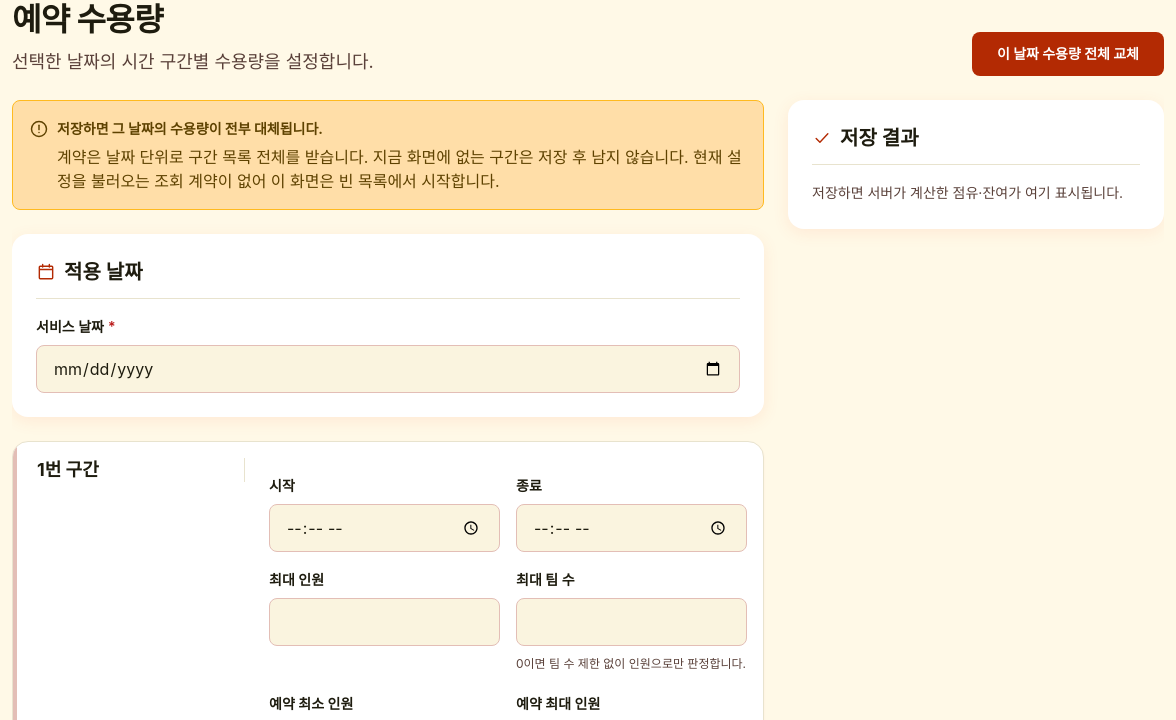
Scenario: 예약 수용량 화면 › 날짜를 고르지 않으면 저장하지 않는다
Expected: the date field labelled "서비스 날짜" is shown, [36, 345, 740, 393]
Type "11:00" into the time field labelled "시작".
click(384, 528); type("11:00")  # box [269, 504, 500, 552]
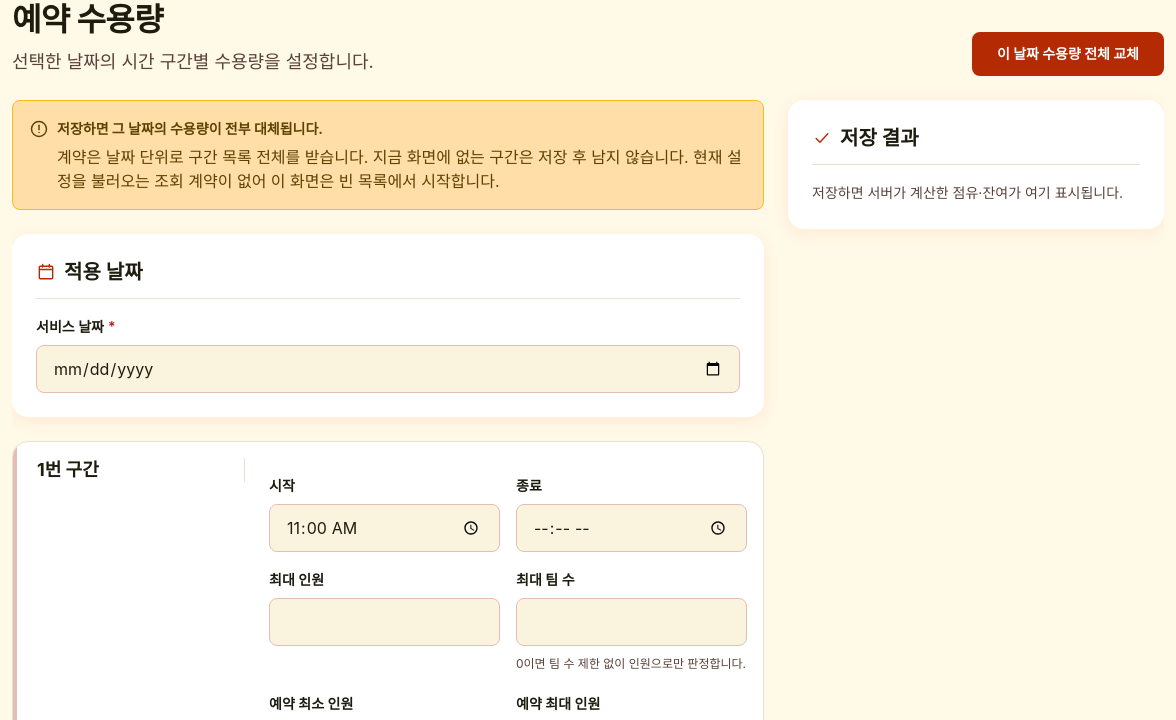
Type "14:00" into the time field labelled "종료".
click(632, 528); type("14:00")  # box [516, 504, 747, 552]
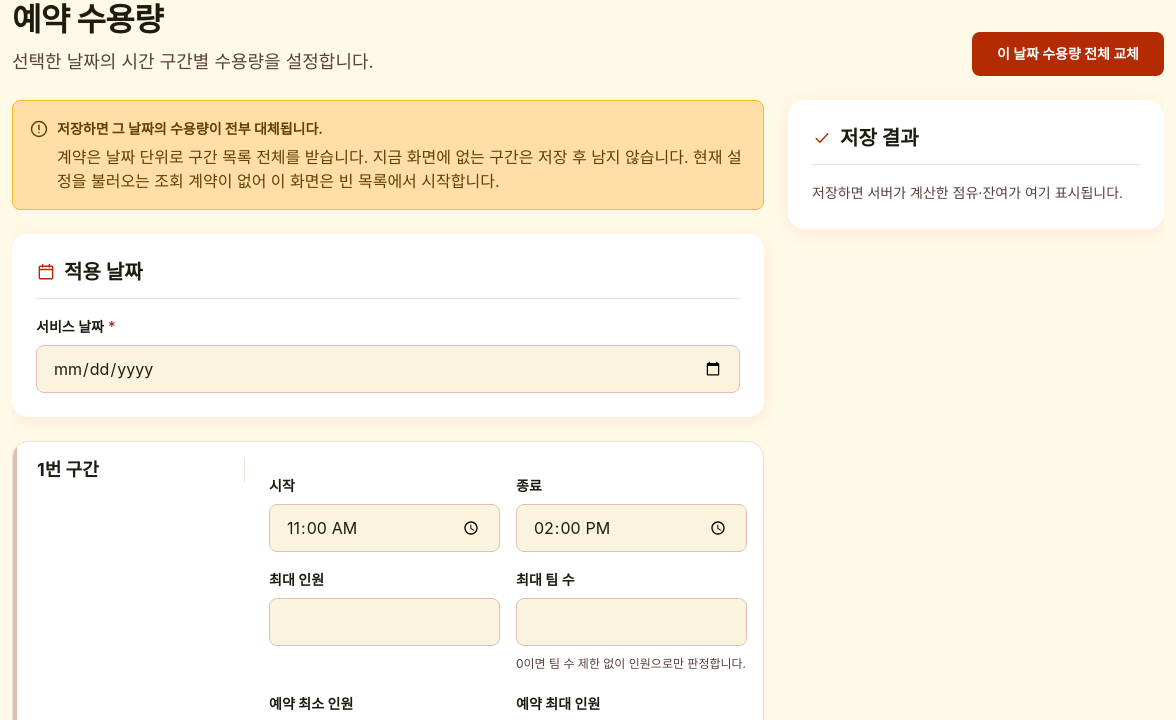
Type "40" into the field labelled "최대 인원".
click(384, 622); type("40")  # box [269, 598, 500, 646]
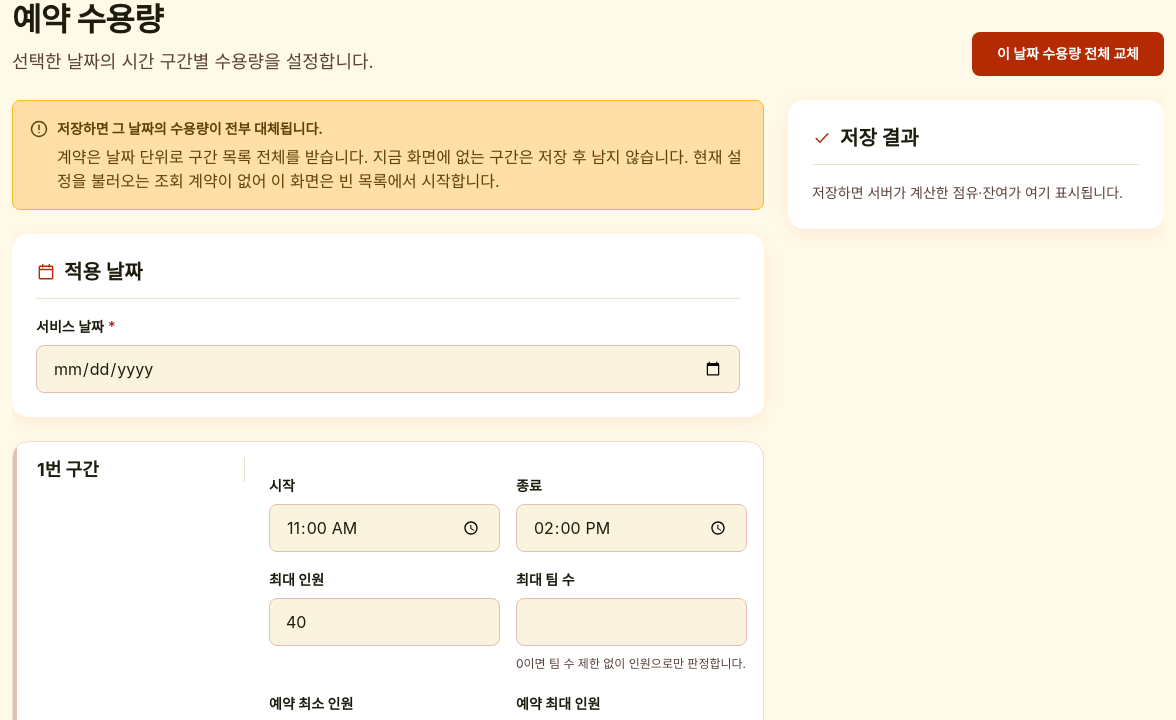
Type "10" into the field labelled "최대 팀 수".
click(632, 622); type("10")  # box [516, 598, 747, 646]
(page scrolled)
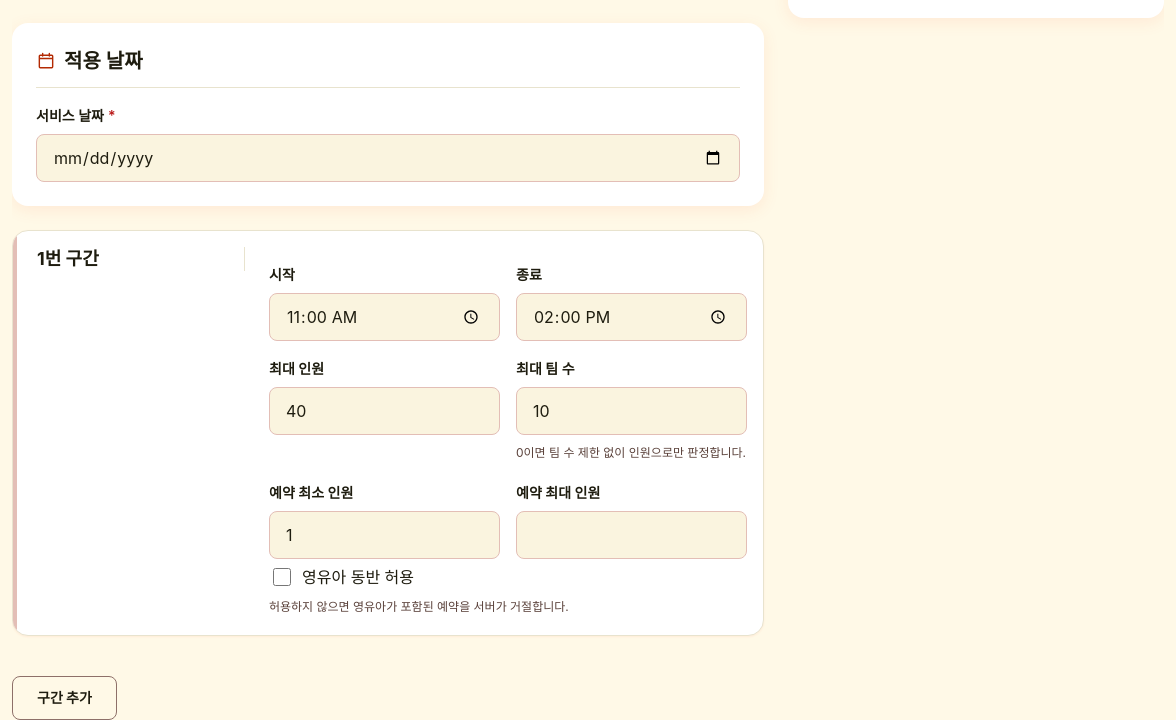
Type "8" into the field labelled "예약 최대 인원".
click(632, 535); type("8")  # box [516, 511, 747, 559]
(page scrolled)
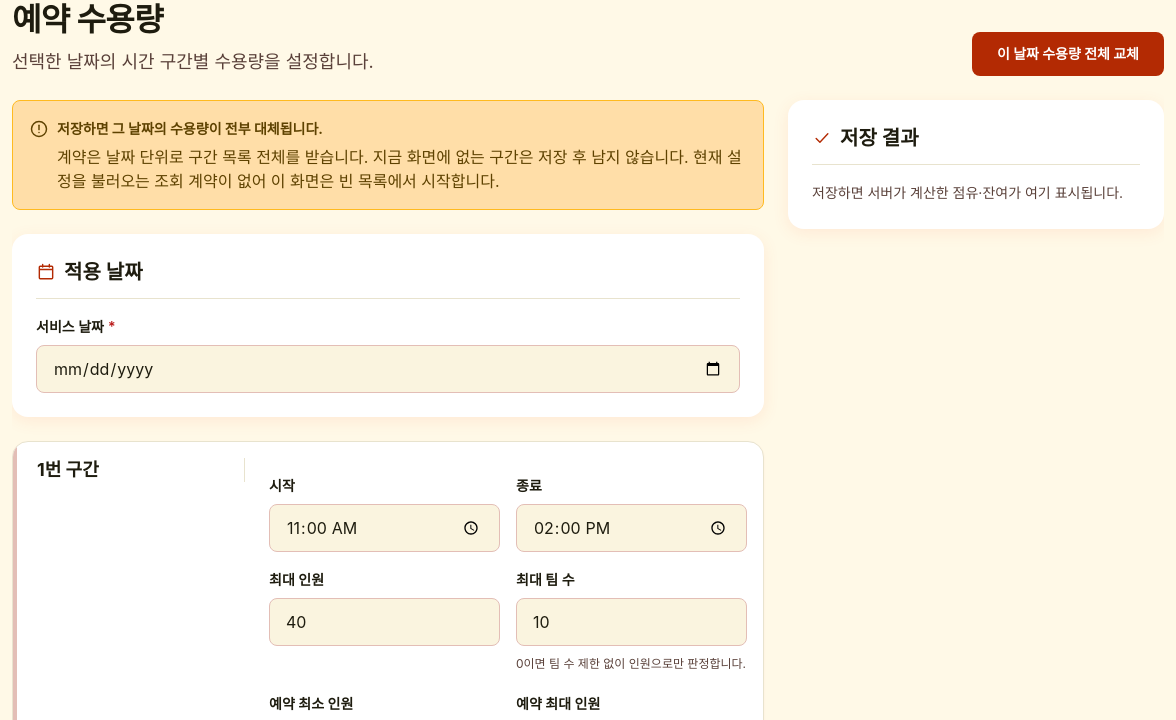
Click the button "이 날짜 수용량 전체 교체".
click(1068, 54)  # box [972, 32, 1164, 76]
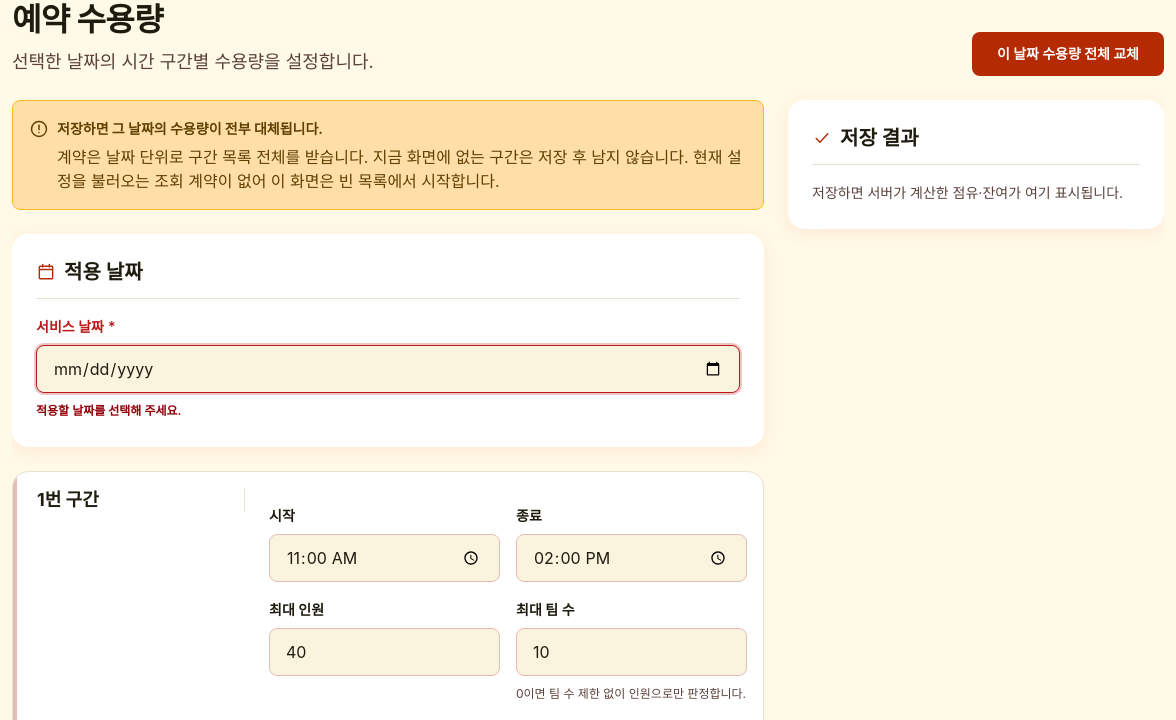
Result: the text "적용할 날짜를 선택해 주세요." is shown at [36, 403, 181, 418]
